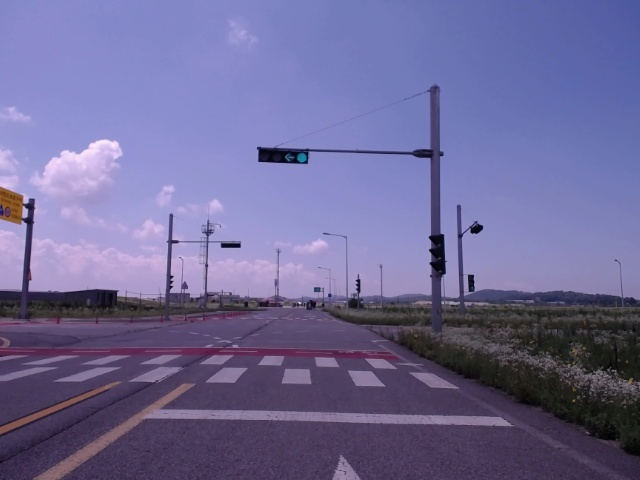all_green_4: (255, 145, 311, 162)
